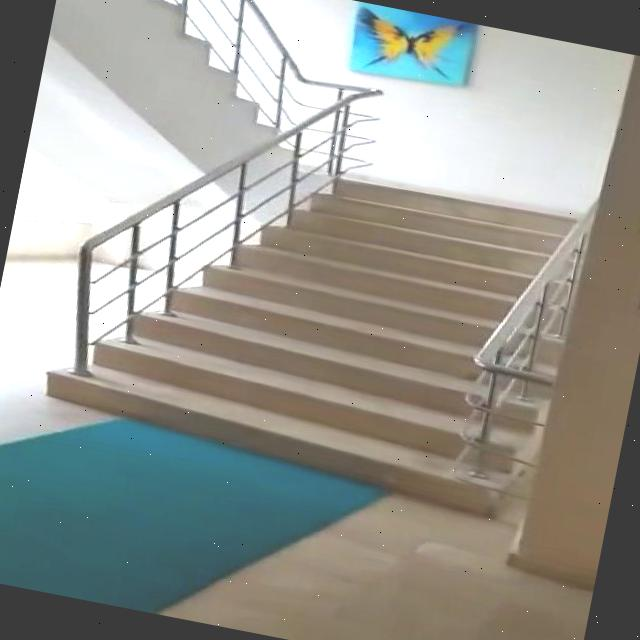stairs: (35, 122, 588, 524)
